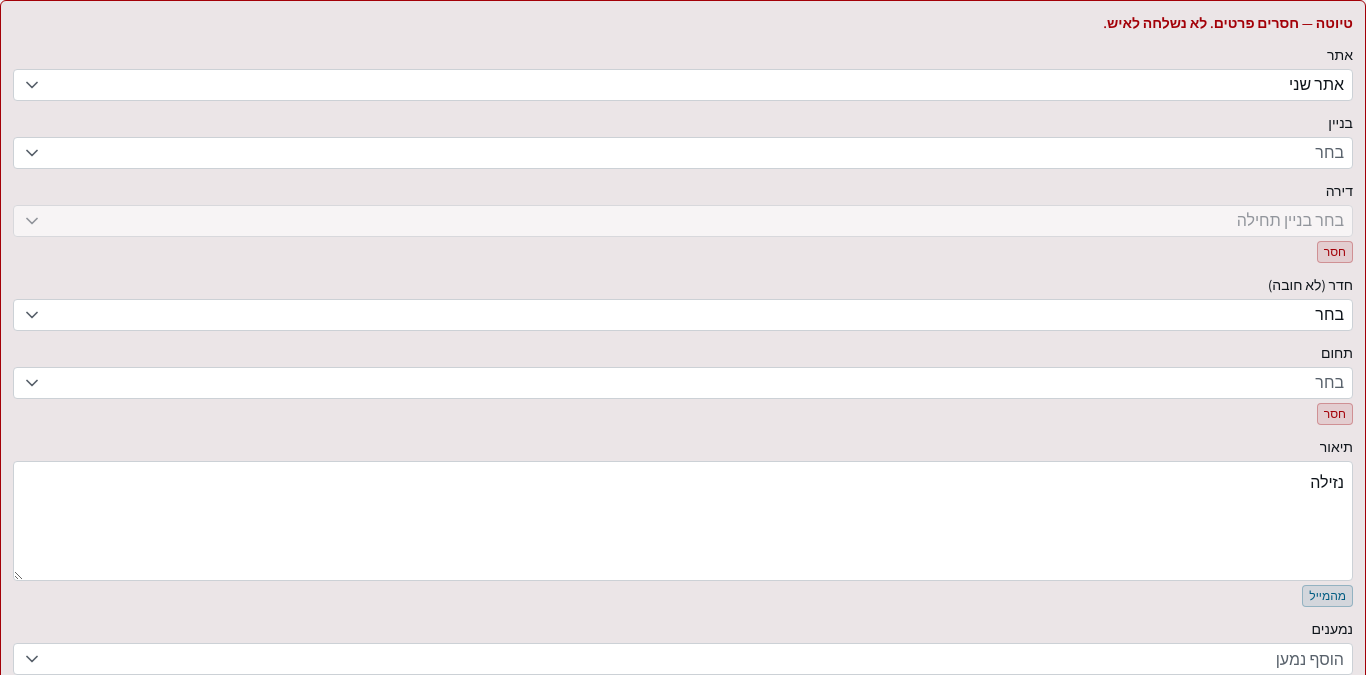
it: ChannelDraftCompletion — מה מוצג › החלפת אתר מאפסת את רשימת הבניינים לזו של האתר החדש — בלי לטעון את הטופס מחדש
The width and height of the screenshot is (1366, 675).
Step 1. Click the button named "בניין" → (1330,153), box [13,137,1353,169]
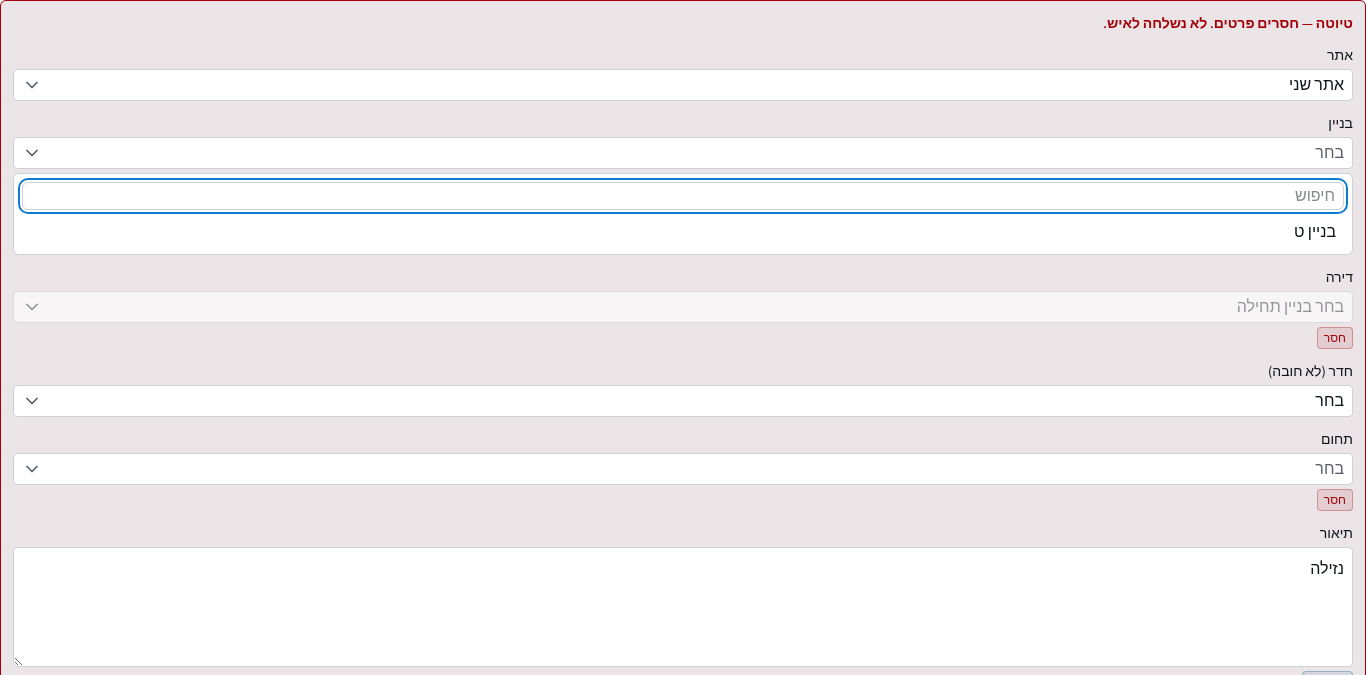
Check: the option "בניין ט" is shown, box [22,218,1344,246]
